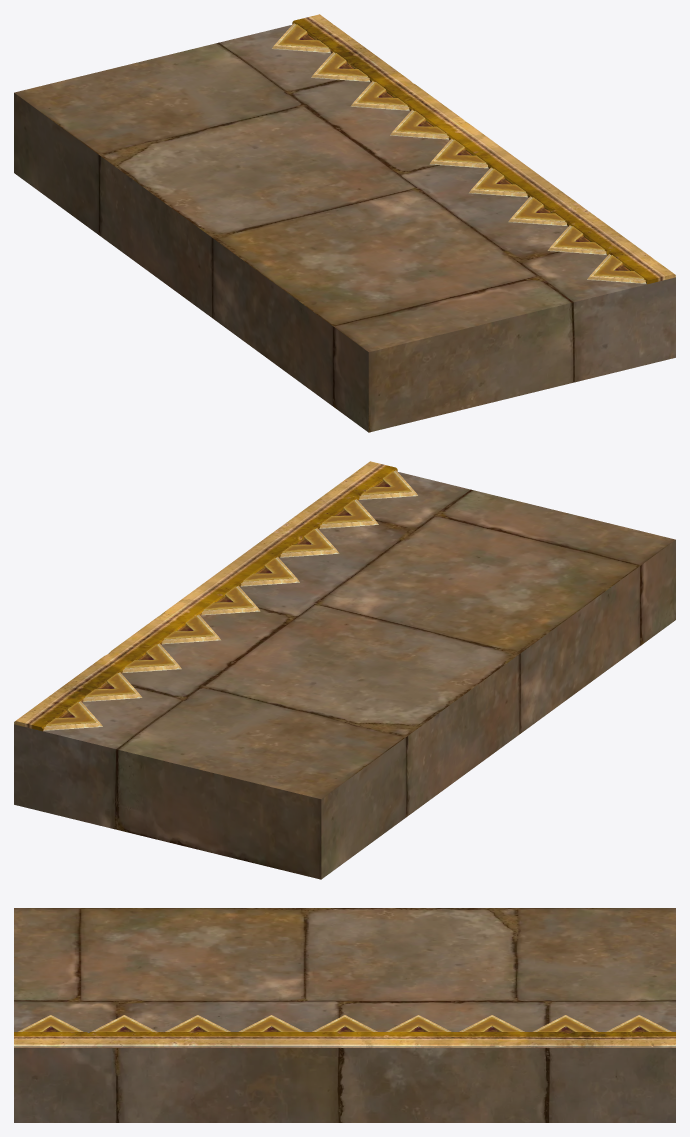
3 renders of one model, top to bottom at view 1: azimuth 30°, elevation 25°; view 2: azimuth 150°, elevation 25°; view 3: azimuth 270°, elevation 25°, orthographic. The views are drawn at different scales.
Visible parts, largest first — view 1: SM_Vault_4x2_Floor_01_LOD0; view 2: SM_Vault_4x2_Floor_01_LOD0; view 3: SM_Vault_4x2_Floor_01_LOD0.
Part boxes in pixels (box(x1,y1,x2,y2)): SM_Vault_4x2_Floor_01_LOD0: box(14, 14, 675, 432); SM_Vault_4x2_Floor_01_LOD0: box(14, 461, 675, 879); SM_Vault_4x2_Floor_01_LOD0: box(14, 908, 675, 1122).
Bounding box in the file's own units: 2 × 0.5232 × 4.
Materials: 4 (4 with a texture image).
